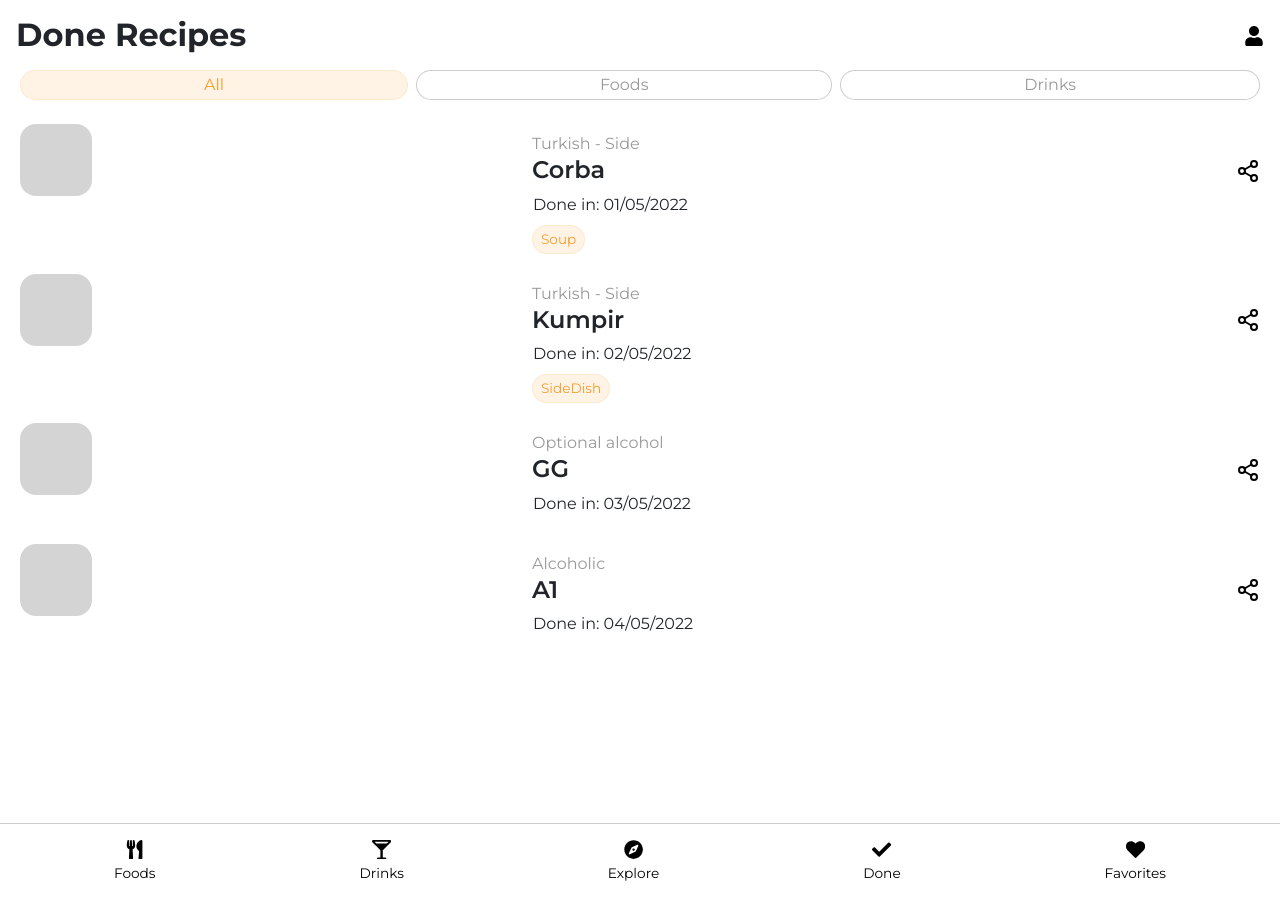
Página de Receitas Feitas - Renderização › Verifica o botão All
Click the button with test id "filter-by-food-btn": (624, 85) [416,70,832,100]
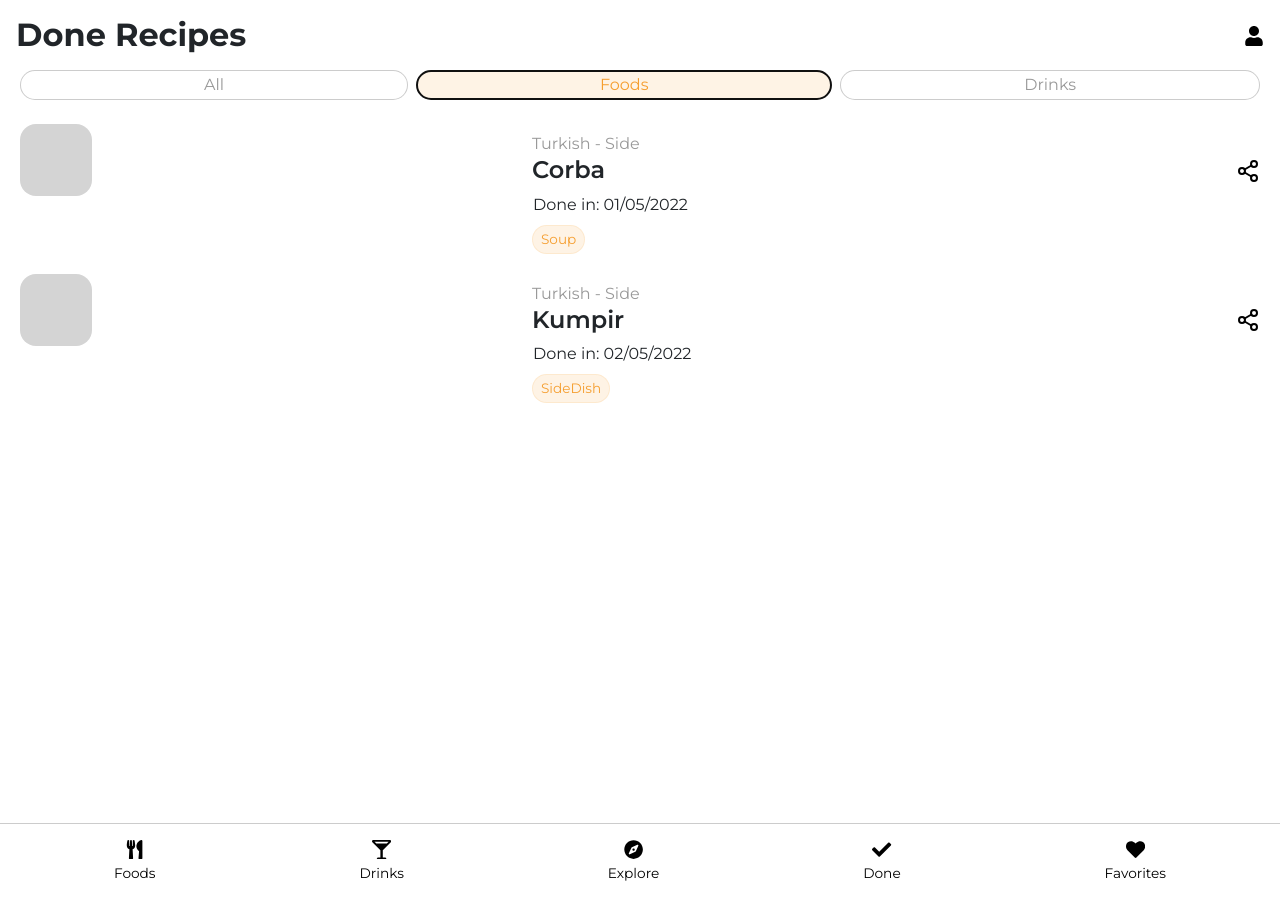
Click the button with test id "filter-by-drink-btn": (1050, 85) [840,70,1260,100]
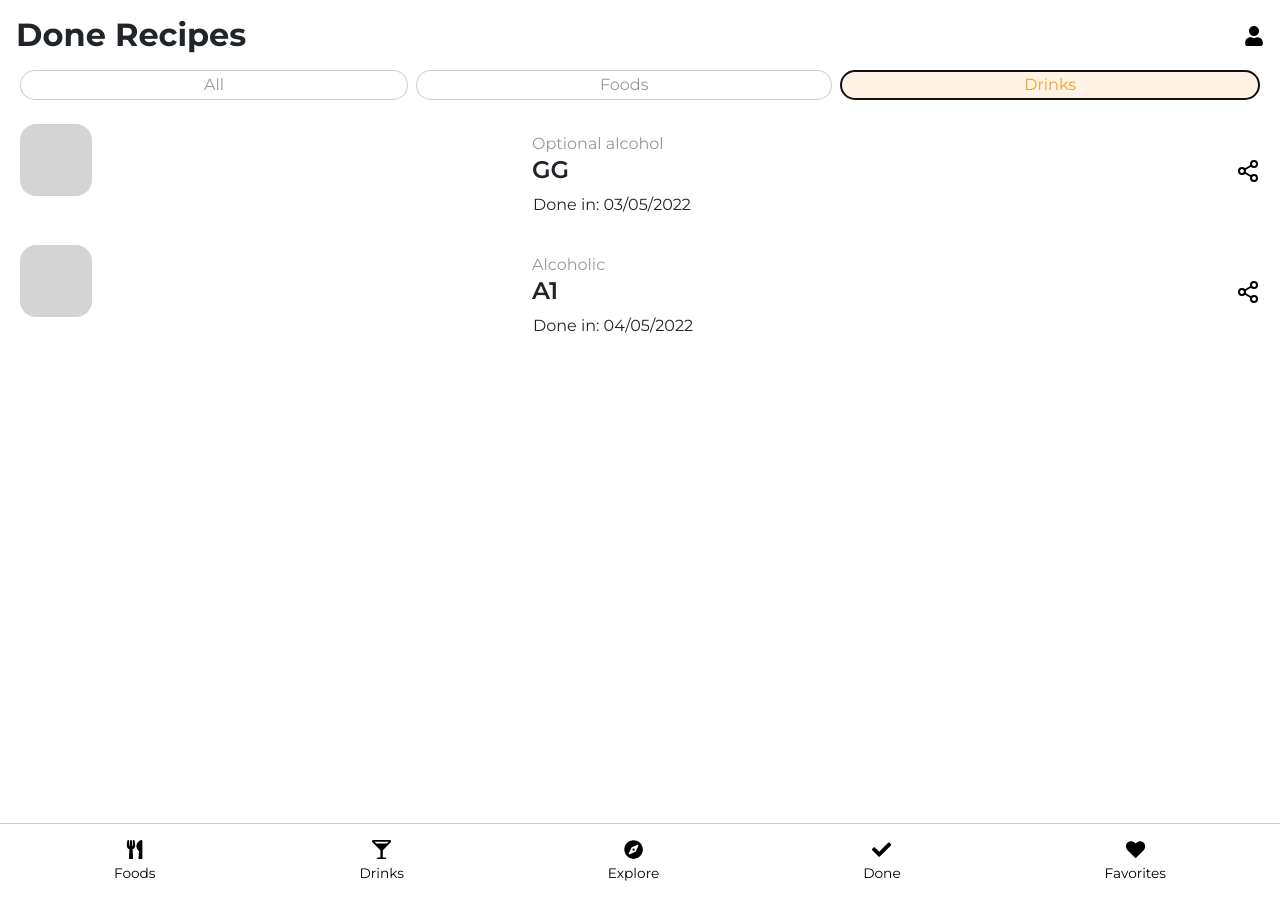
Click the button with test id "filter-by-all-btn": (214, 85) [20,70,408,100]
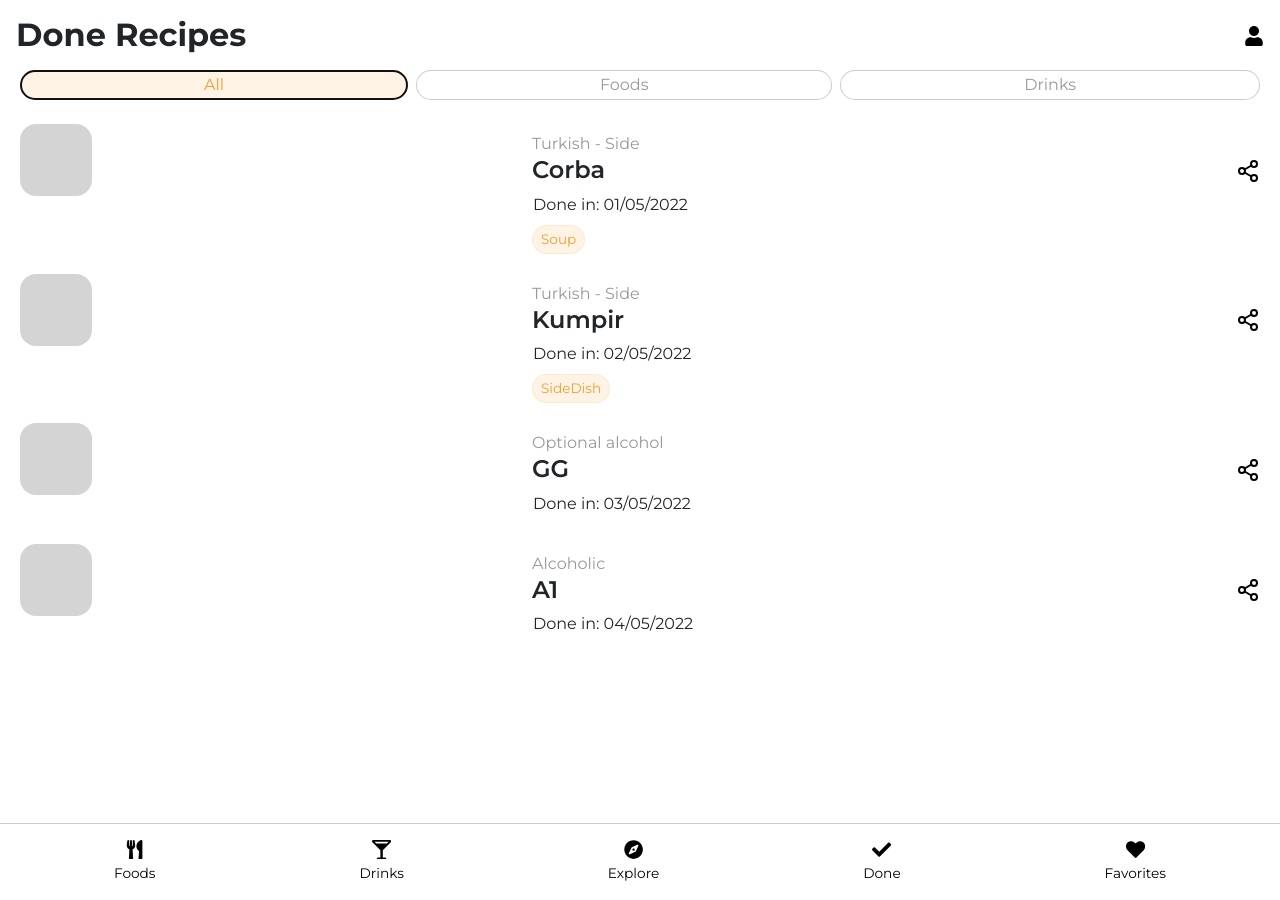
Expected: the heading with test id "horizontal-name" reads "GG", [532,454,569,483]
Expected: the heading with test id "horizontal-name" reads "Corba", [532,155,605,184]
Expected: the heading with test id "horizontal-name" reads "Kumpir", [532,305,624,334]
